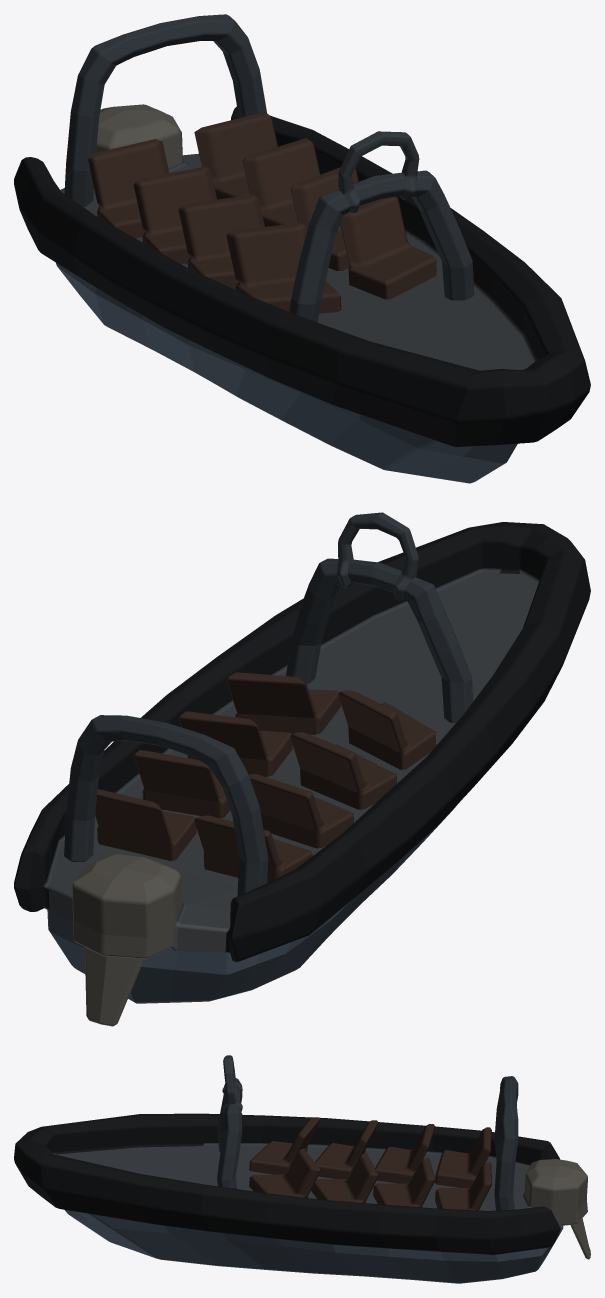
Rendered from MARINE_Boot_klein_02.fbx.
3 views of the same model, one above another, from view 1: azimuth 30°, elevation 25°; view 2: azimuth 150°, elevation 25°; view 3: azimuth 270°, elevation 25° (orthographic). The views are drawn at different scales.
Parts seen in each view (by area): view 1: boar_klein_01, sitjes, balk voor, balk achter; view 2: boar_klein_01, sitjes, balk voor, balk achter; view 3: boar_klein_01, sitjes, balk achter, balk voor.
Boxes of the visible parts, box(x1,y1,x2,y2) form: boar_klein_01: box(14, 104, 590, 483); sitjes: box(88, 111, 436, 313); balk voor: box(289, 131, 474, 322); balk achter: box(64, 14, 266, 206); boar_klein_01: box(14, 522, 590, 1026); sitjes: box(95, 672, 436, 882); balk voor: box(286, 512, 472, 723); balk achter: box(64, 715, 268, 896); boar_klein_01: box(14, 1113, 590, 1283); sitjes: box(249, 1117, 491, 1210); balk achter: box(494, 1076, 518, 1210); balk voor: box(217, 1055, 242, 1188).
Size of the model in its own units: 235 by 244 by 602.
